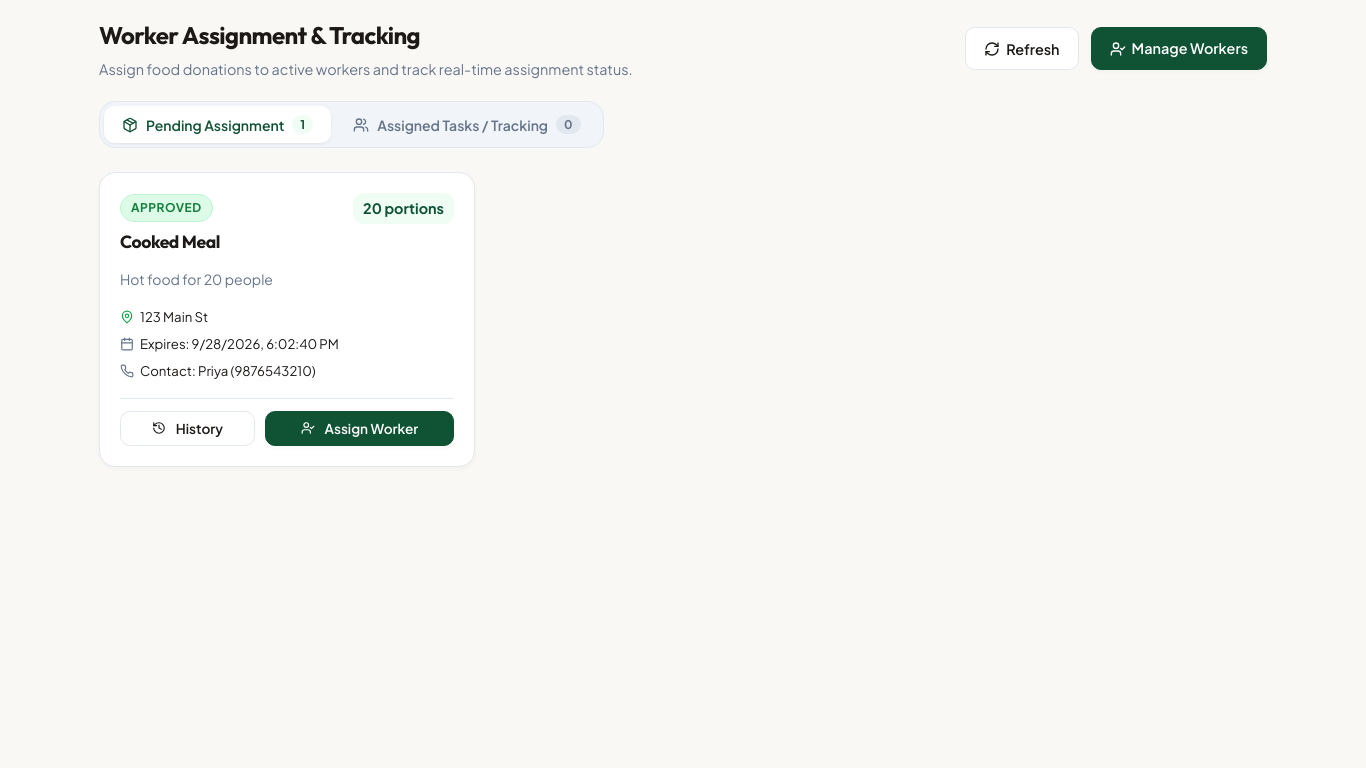
Scenario: Frontend Module 04 — Unit & Component Tests › AdminAssignmentQueuePage Worker Selector › shows no active workers state when list is empty
Click the button "Assign Worker" at {"x": 359, "y": 428}, box [265,410,454,446]
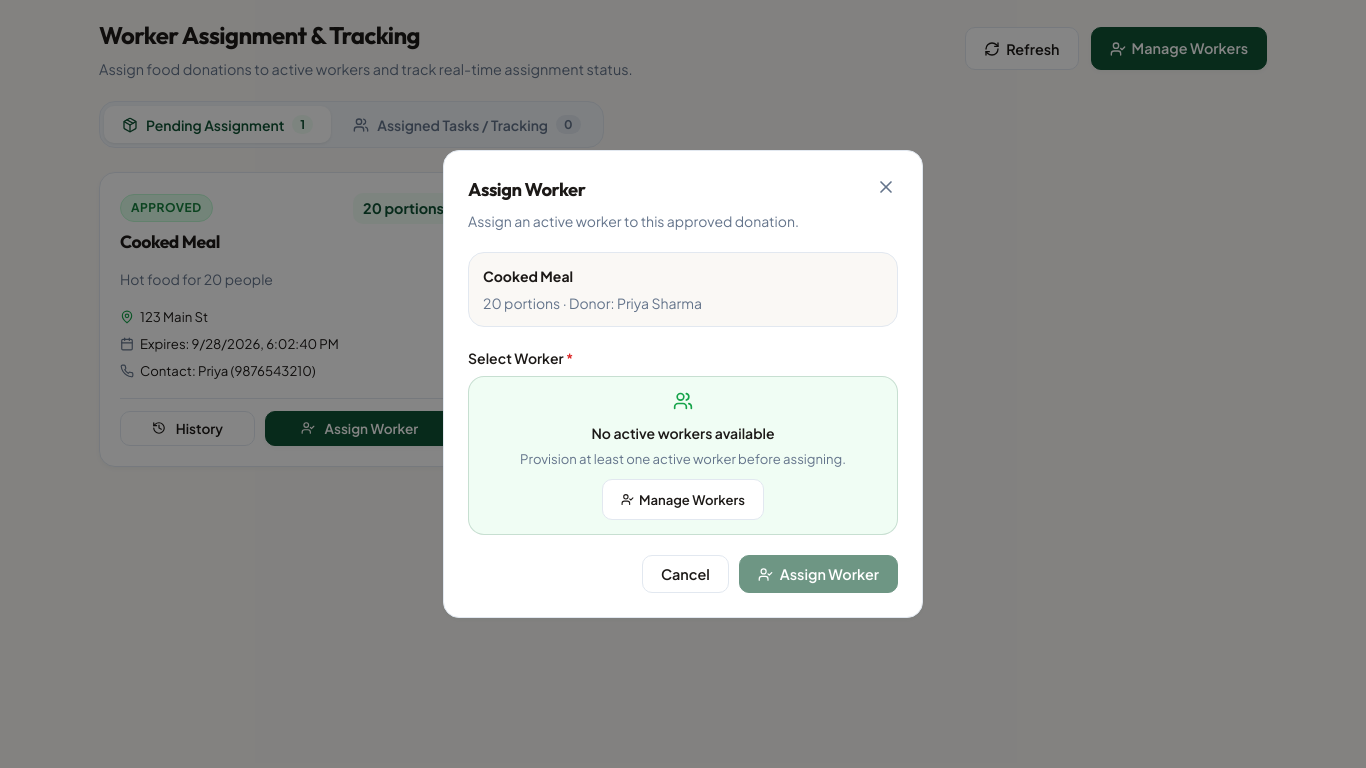
Expected: the text "No active workers available" is shown, [591,424,774,442]
